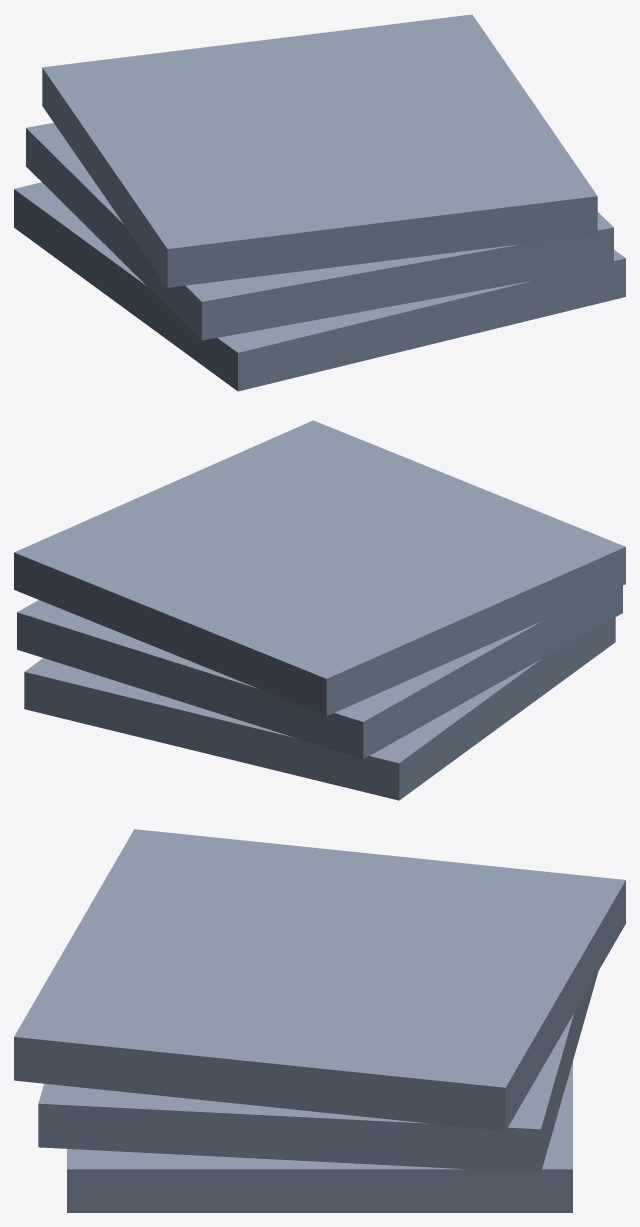
File: hull_plate.glb
The picture shows the model from 3 angles, top to bottom: view 1: azimuth 30°, elevation 25°; view 2: azimuth 150°, elevation 25°; view 3: azimuth 270°, elevation 25°; orthographic projection. The views are drawn at different scales.
Parts seen in each view (by area): view 1: hull_plate; view 2: hull_plate; view 3: hull_plate.
Part boxes in pixels (x1,y1,x2,y2): hull_plate: (14, 14, 625, 391); hull_plate: (14, 420, 625, 800); hull_plate: (14, 829, 625, 1212).
Bounding box in the file's own units: 1.02 × 0.27 × 1.02.
